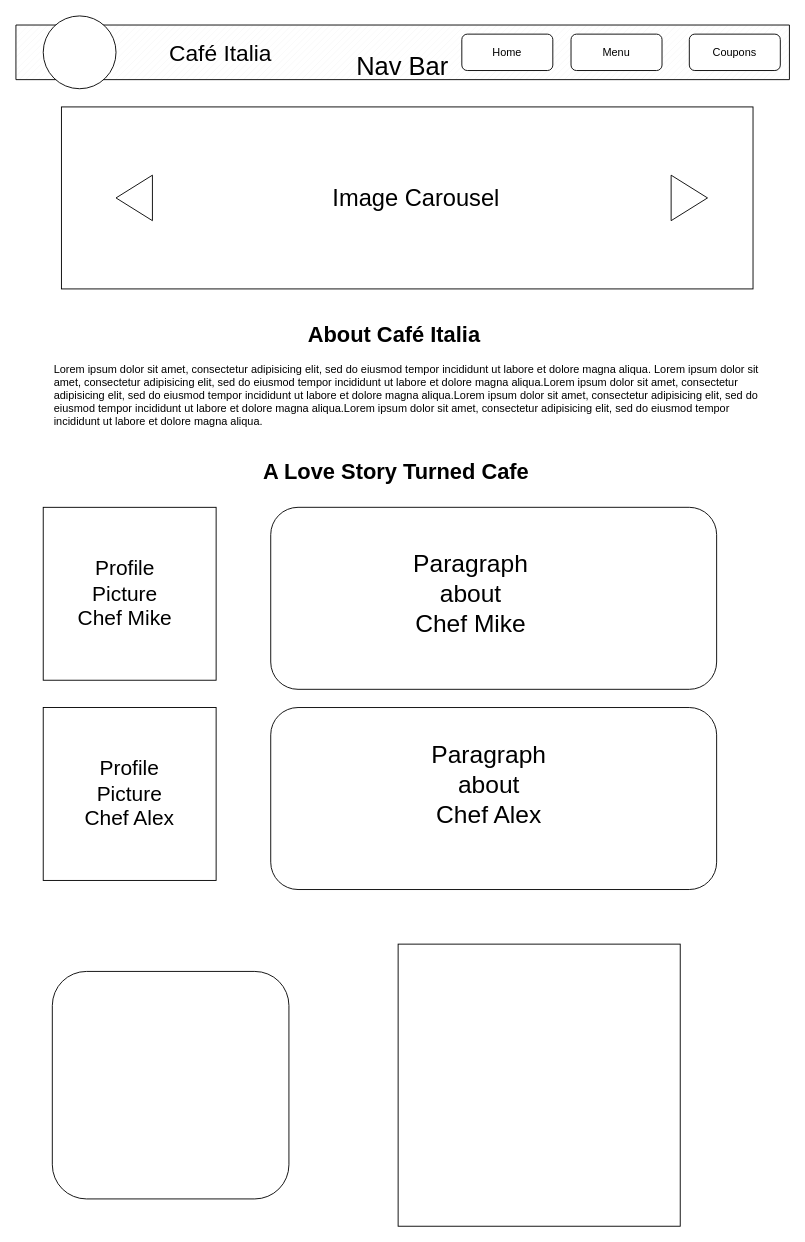
Image size: 805x1242. Some labels were removed from this diagram. Here are the shapes that lost their labels. From the top down, the centre of each, then its label:
the point at 79,52: Logo
the point at 170,1085: Hours of operation, address and contact information
the point at 538,1084: Google Maps
